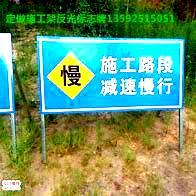sign: (38, 36, 184, 111)
